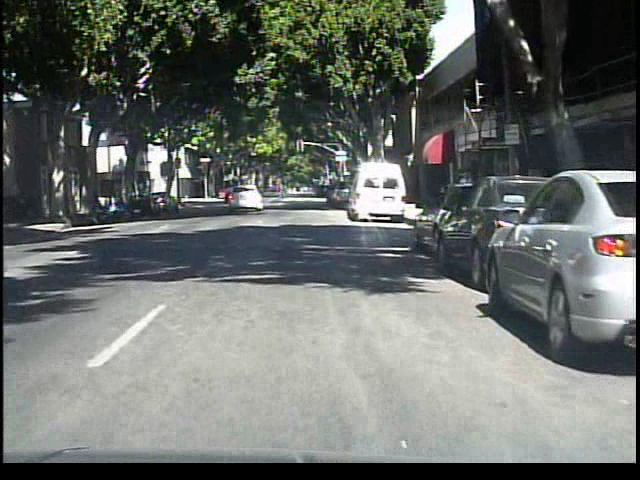person: (454, 167, 479, 228), (273, 171, 294, 204)
